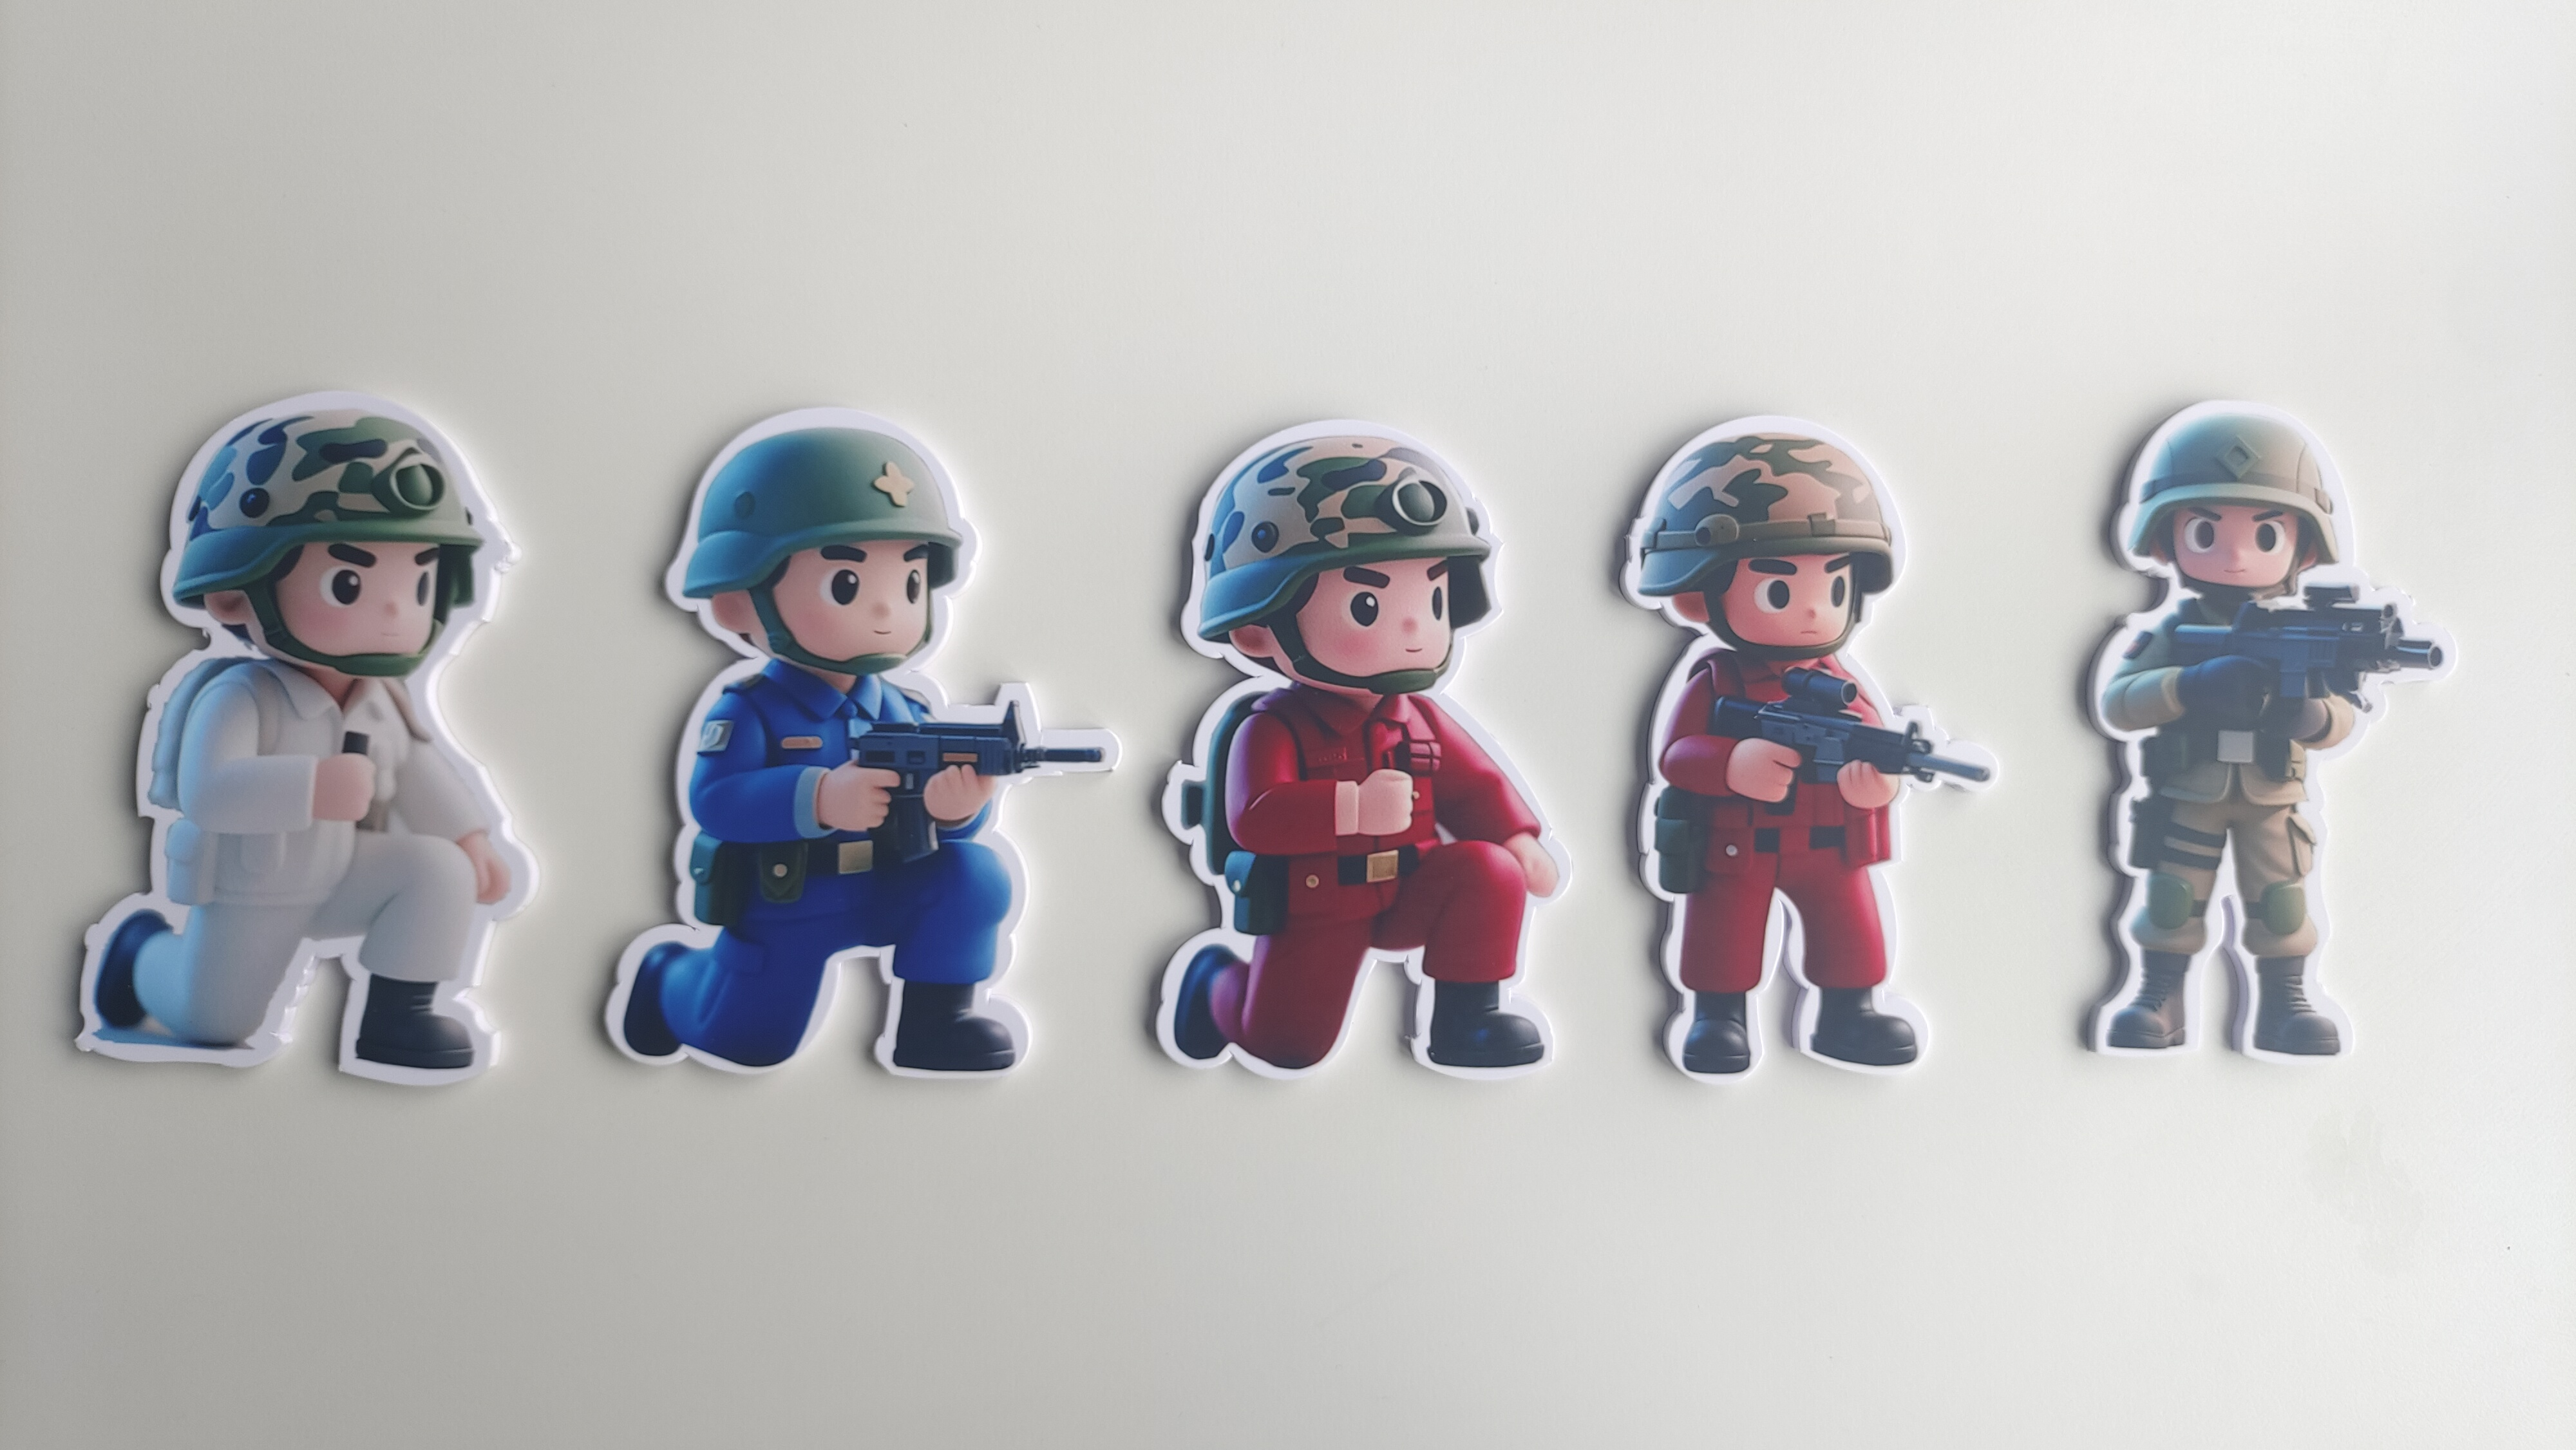enemy1: (1143, 693, 1569, 1088), (1631, 644, 1964, 1088)
enemy2: (594, 677, 1070, 1107)
friend: (2049, 598, 2397, 1073)
hostage: (57, 677, 536, 1088)
